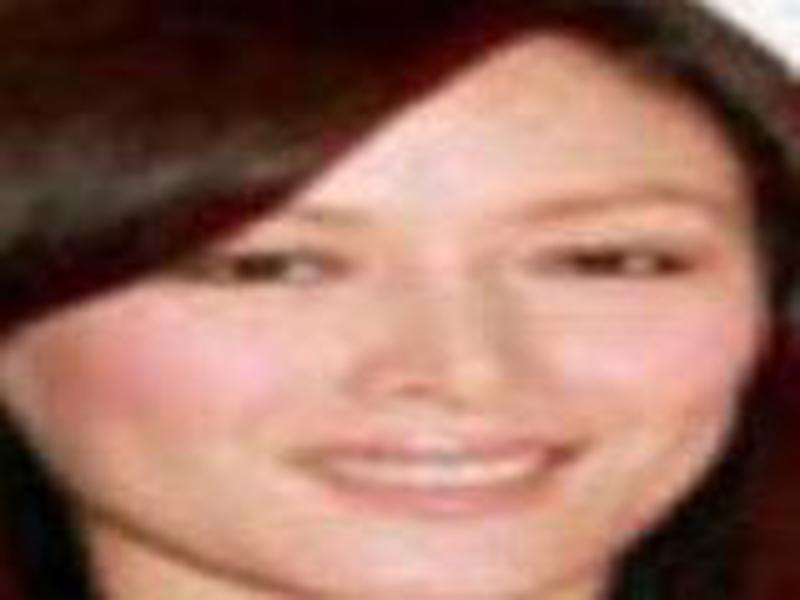without_mask: (2, 144, 767, 597)
